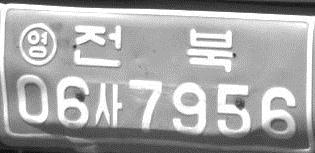0: (15, 73, 49, 125)
5: (216, 82, 251, 139)
6: (260, 85, 297, 142), (55, 75, 89, 130)
7: (128, 78, 163, 130)
9: (170, 80, 207, 137)
사: (95, 81, 123, 129)
영: (18, 22, 57, 66)
전북_D: (72, 24, 234, 73)
